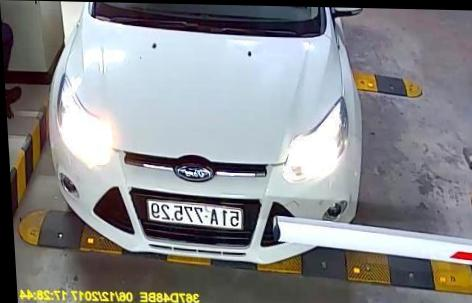License_Plate: (146, 198, 243, 230)
